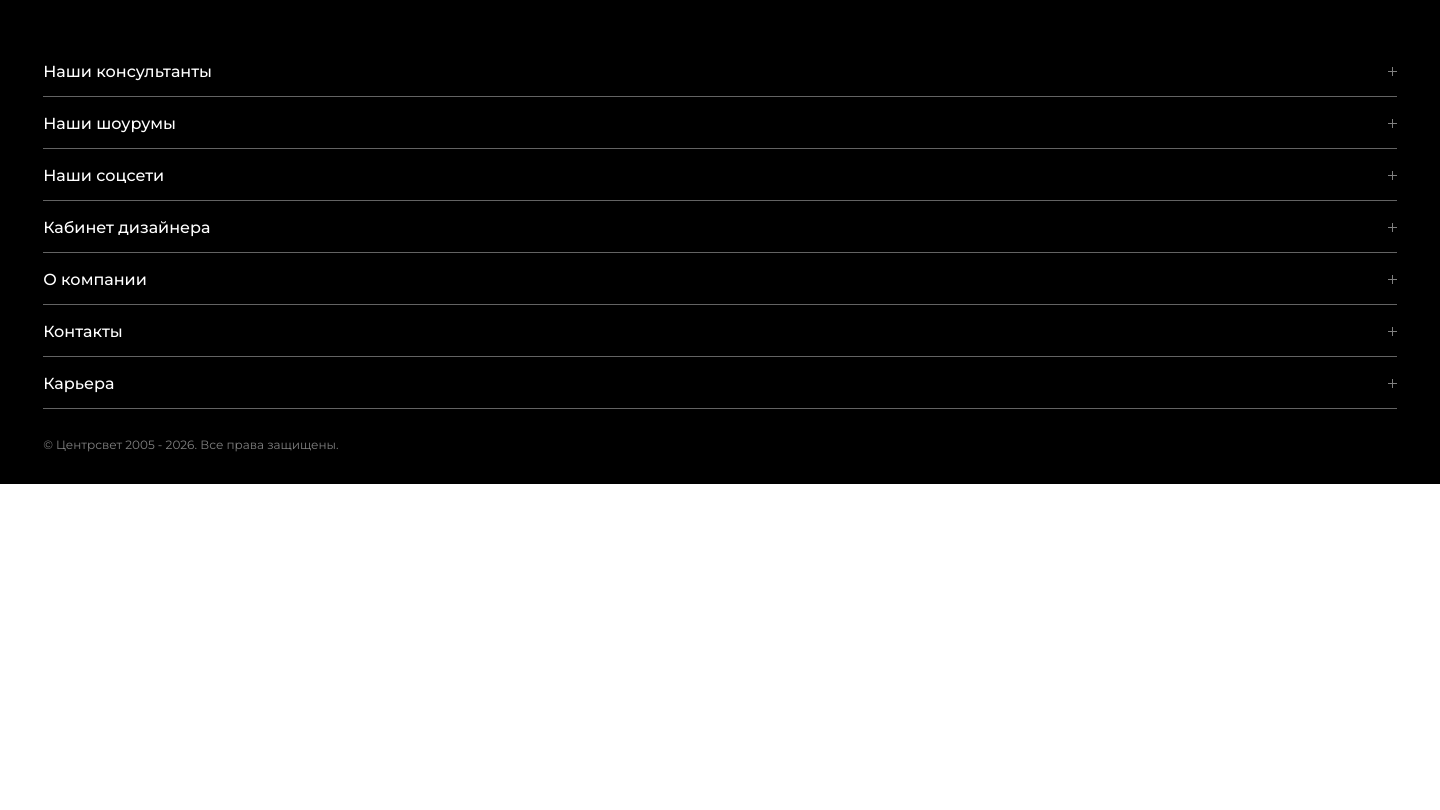
it: SiteFooter › в разделе «Наши консультанты» после раскрытия виден пункт «Интернет-магазин»
What coordinates should you click on to do the following:
click the heading "Наши консультанты"
I would click on:
 (128, 72)
Its box is [43,62,212,81].
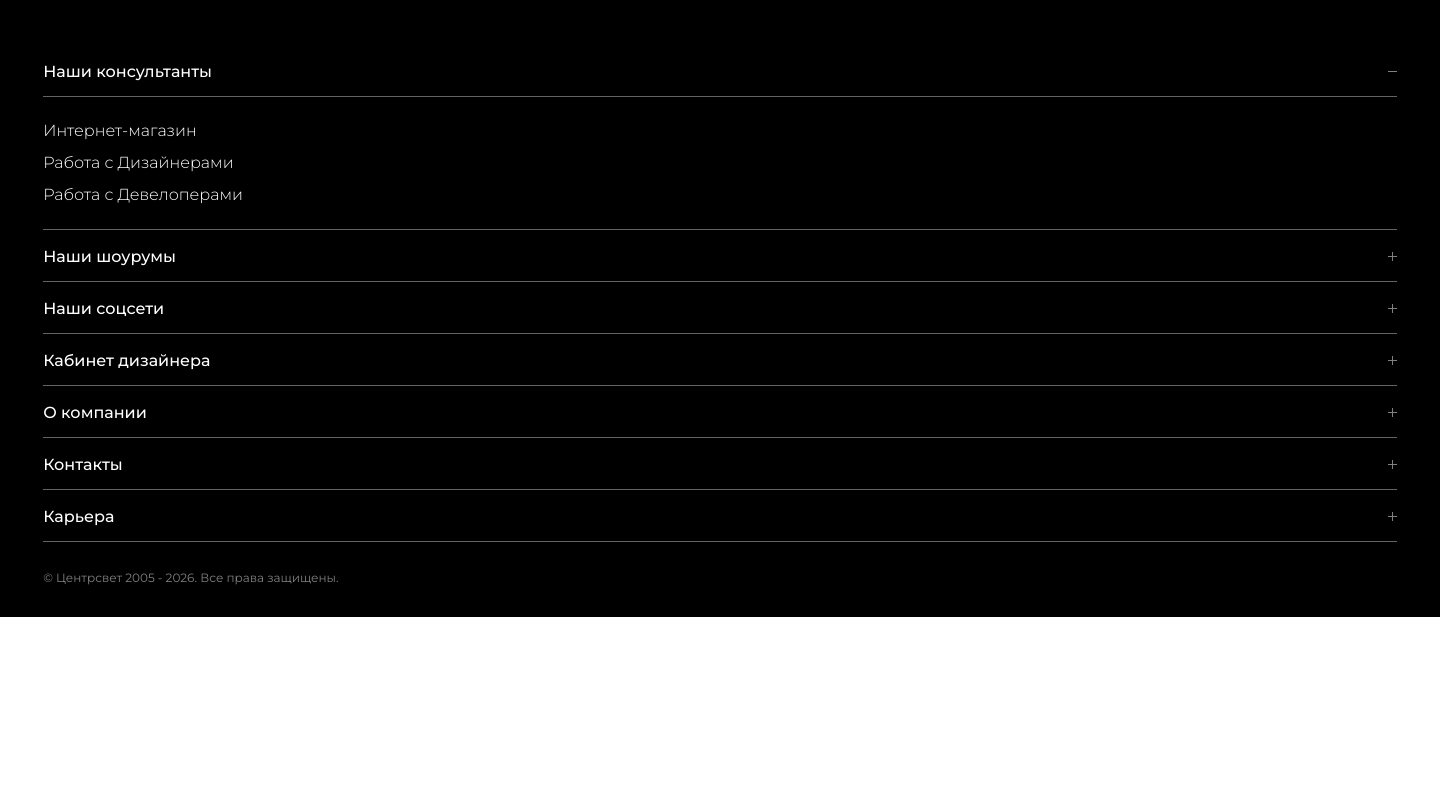
Check: the link "Интернет-магазин" is shown, box [43,121,197,140]
